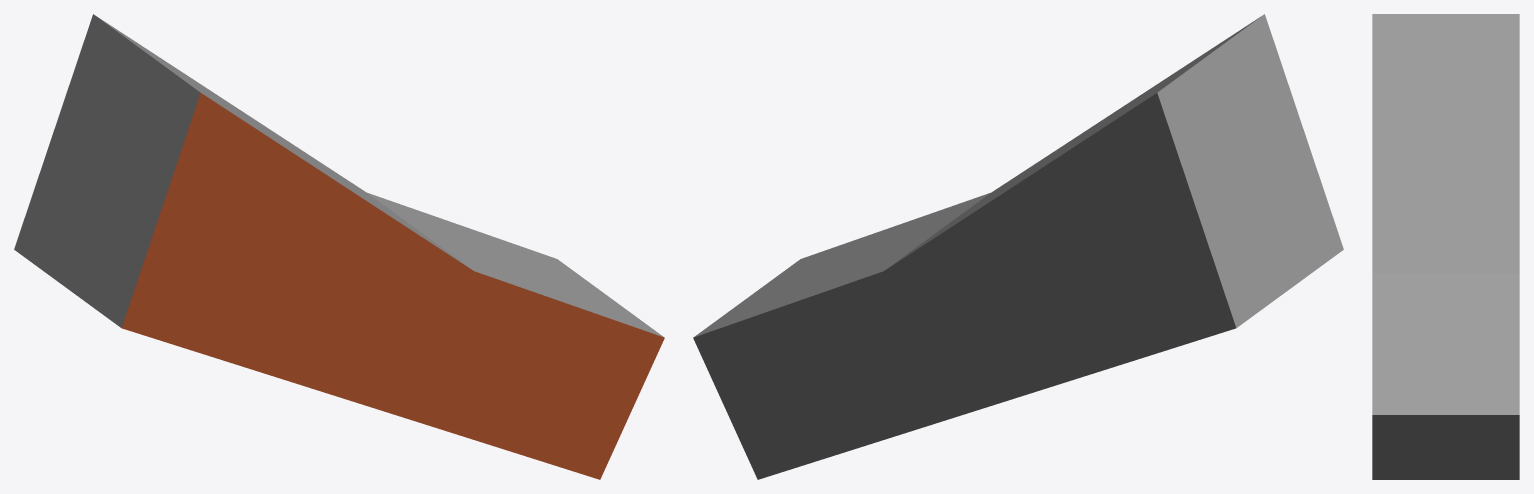
Rendered from construction_6411_assumed_A_Casa_h6m.obj.
The picture shows the model from 3 angles, left to right: view 1: azimuth 30°, elevation 25°; view 2: azimuth 150°, elevation 25°; view 3: azimuth 270°, elevation 25°; orthographic projection. The views are drawn at different scales.
Parts seen in each view (by area): view 1: construction_6411_assumed_A_Casa; view 2: construction_6411_assumed_A_Casa; view 3: construction_6411_assumed_A_Casa.
Boxes of the visible parts, <box> form: construction_6411_assumed_A_Casa: <box>14,14,664,479</box>; construction_6411_assumed_A_Casa: <box>693,14,1343,479</box>; construction_6411_assumed_A_Casa: <box>1372,14,1519,479</box>.
Bounding box in the file's own units: 17.5 × 14.92 × 6.
